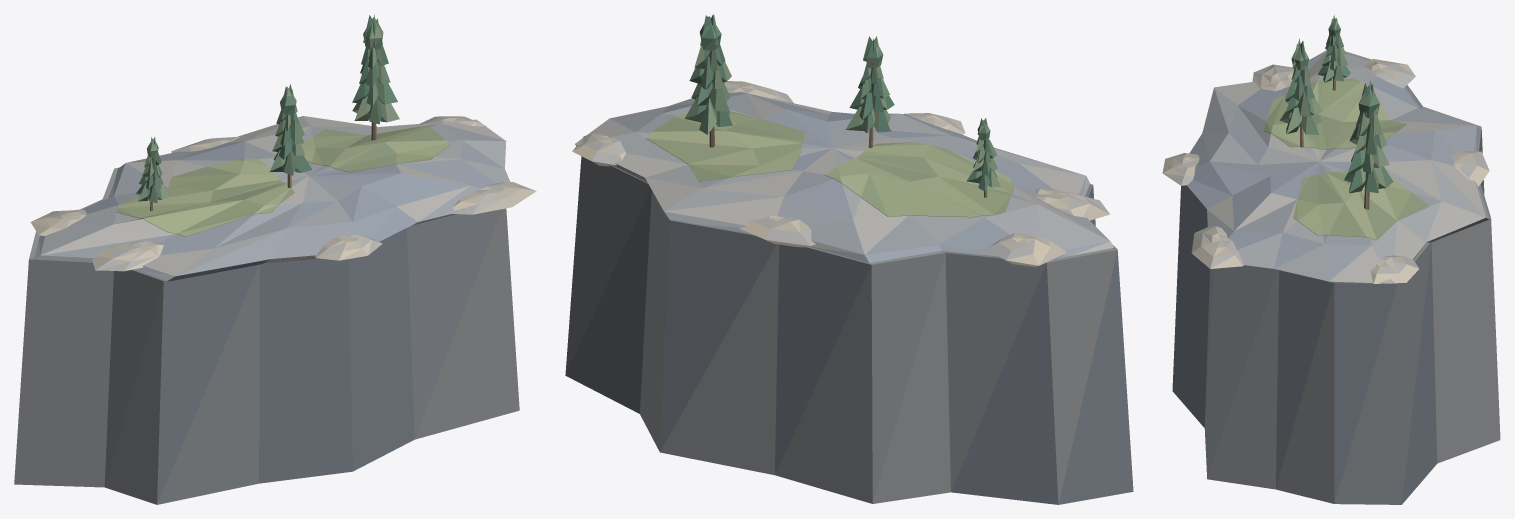
File: island_far_middle.glb
3 views of the same model, side by side, from view 1: azimuth 30°, elevation 25°; view 2: azimuth 150°, elevation 25°; view 3: azimuth 270°, elevation 25° (orthographic). The views are drawn at different scales.
Parts seen in each view (by area): view 1: island_far_middle_rockroot, island_far_middle_shoulder, island_far_middle_grasscap_west, island_far_middle_grasscap_east, island_far_middle_wetshore_05, island_far_middle_wetshore_03, island_far_middle_wetshore_04, island_far_middle_wetshore_02, island_far_middle_pine_03_crown_tier_00, island_far_middle_pine_03_crown_tier_01, island_far_middle_pine_02_crown_tier_00; view 2: island_far_middle_rockroot, island_far_middle_shoulder, island_far_middle_grasscap_west, island_far_middle_grasscap_east, island_far_middle_wetshore_02, island_far_middle_wetshore_01, island_far_middle_wetshore_03, island_far_middle_wetshore_00, island_far_middle_pine_03_crown_tier_00, island_far_middle_pine_03_crown_tier_02, island_far_middle_pine_02_crown_tier_00, island_far_middle_pine_03_crown_tier_01 (+2 smaller); view 3: island_far_middle_rockroot, island_far_middle_shoulder, island_far_middle_grasscap_east, island_far_middle_grasscap_west, island_far_middle_wetshore_05, island_far_middle_wetshore_00, island_far_middle_wetshore_02, island_far_middle_pine_03_crown_tier_00, island_far_middle_wetshore_04, island_far_middle_wetshore_01, island_far_middle_wetshore_03, island_far_middle_pine_03_crown_tier_01 (+7 smaller).
Boxes of the visible parts, x1,y1,x2,y2 form: island_far_middle_rockroot: (14, 167, 519, 504); island_far_middle_shoulder: (34, 116, 510, 281); island_far_middle_grasscap_west: (116, 158, 294, 236); island_far_middle_grasscap_east: (301, 125, 450, 172); island_far_middle_wetshore_05: (452, 182, 536, 214); island_far_middle_wetshore_03: (92, 240, 163, 271); island_far_middle_wetshore_04: (315, 234, 382, 260); island_far_middle_wetshore_02: (30, 209, 86, 235); island_far_middle_pine_03_crown_tier_00: (352, 96, 399, 124); island_far_middle_pine_03_crown_tier_01: (352, 79, 397, 105); island_far_middle_pine_02_crown_tier_00: (269, 150, 312, 175); island_far_middle_rockroot: (565, 156, 1133, 504); island_far_middle_shoulder: (575, 92, 1113, 263); island_far_middle_grasscap_west: (825, 142, 1014, 217); island_far_middle_grasscap_east: (646, 111, 804, 181); island_far_middle_wetshore_02: (986, 233, 1065, 266); island_far_middle_wetshore_01: (739, 215, 815, 247); island_far_middle_wetshore_03: (1034, 188, 1109, 220); island_far_middle_wetshore_00: (572, 134, 625, 166); island_far_middle_pine_03_crown_tier_00: (684, 96, 732, 134); island_far_middle_pine_03_crown_tier_02: (689, 56, 731, 89); island_far_middle_pine_02_crown_tier_00: (845, 106, 891, 132); island_far_middle_pine_03_crown_tier_01: (691, 82, 730, 111); island_far_middle_rockroot: (1172, 51, 1500, 504); island_far_middle_shoulder: (1187, 50, 1488, 283); island_far_middle_grasscap_east: (1293, 171, 1428, 240); island_far_middle_grasscap_west: (1264, 78, 1406, 149); island_far_middle_wetshore_05: (1191, 225, 1243, 268); island_far_middle_wetshore_00: (1371, 255, 1419, 283); island_far_middle_wetshore_02: (1364, 59, 1415, 88); island_far_middle_pine_03_crown_tier_00: (1344, 166, 1393, 193); island_far_middle_wetshore_04: (1162, 153, 1199, 185); island_far_middle_wetshore_01: (1451, 150, 1489, 186); island_far_middle_wetshore_03: (1252, 64, 1294, 91); island_far_middle_pine_03_crown_tier_01: (1347, 143, 1389, 173).
Size of the model in its own units: 72.71 by 51.33 by 41.84.
